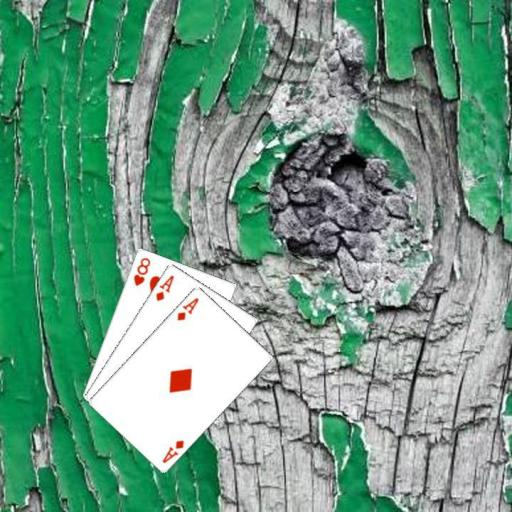8H: (130, 254, 152, 287)
AD: (174, 295, 201, 322), (159, 437, 186, 464), (152, 272, 176, 302)
